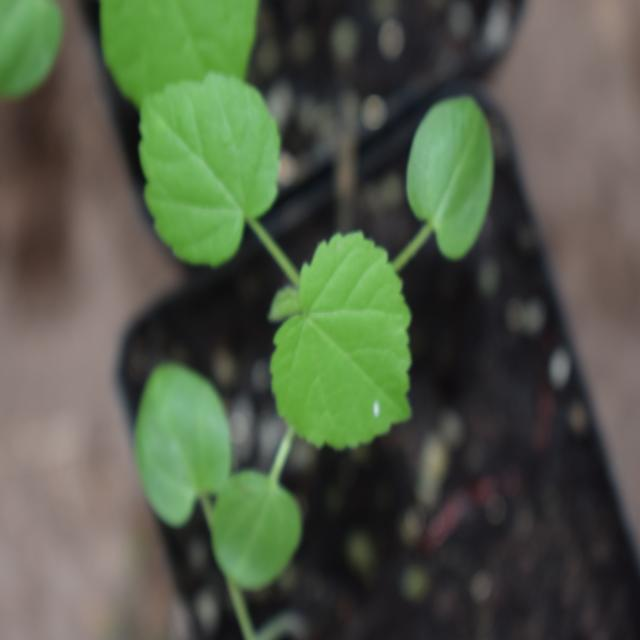abutilon theophrasti: (149, 55, 486, 537)
